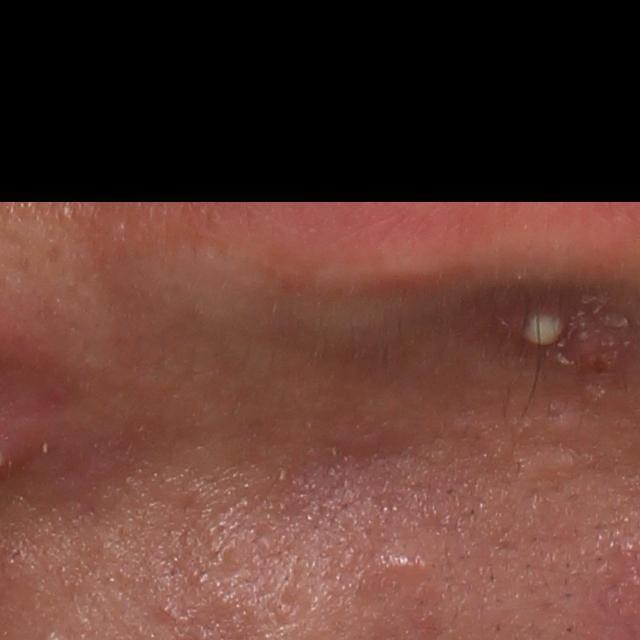papule: (378, 535, 435, 587)
pustule: (484, 286, 625, 383)
